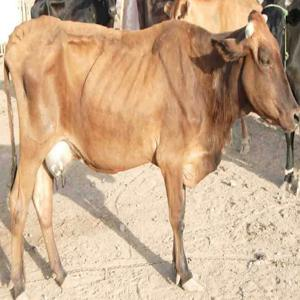lumpy skin diesease: (2, 5, 299, 299)
